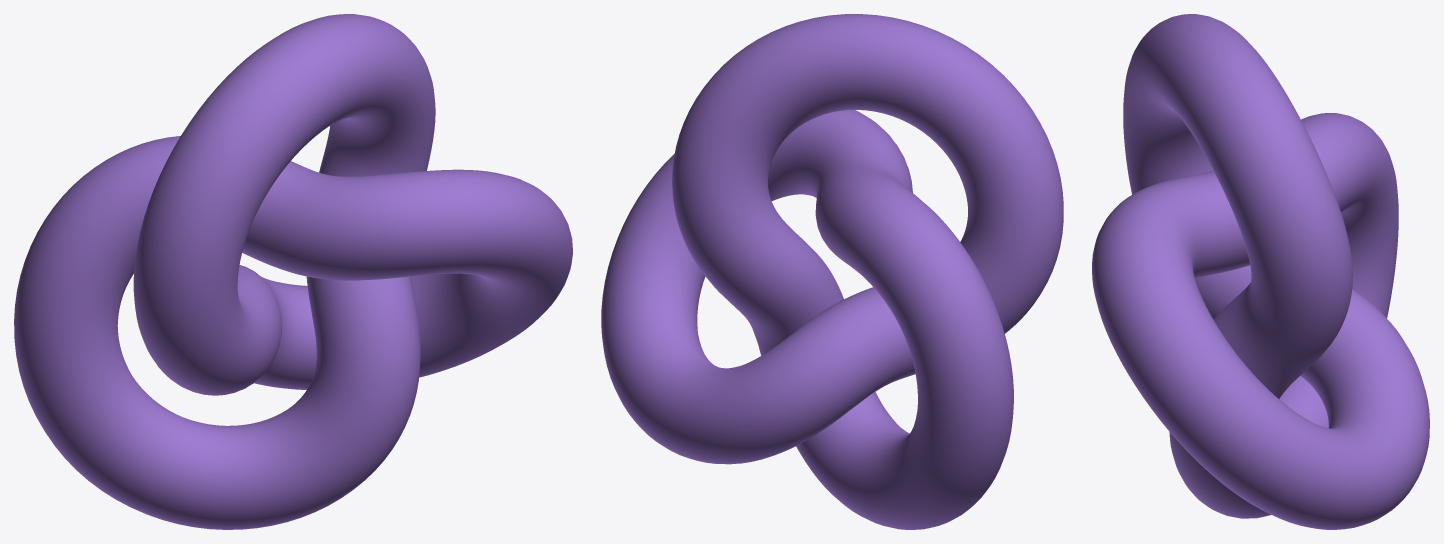
Rendered from orbit.glb.
3 renders of one model, left to right at view 1: azimuth 30°, elevation 25°; view 2: azimuth 150°, elevation 25°; view 3: azimuth 270°, elevation 25°, orthographic. The views are drawn at different scales.
Parts seen in each view (by area): view 1: Orbit Study; view 2: Orbit Study; view 3: Orbit Study.
Boxes of the visible parts, x1=… form: Orbit Study: x1=14, y1=14, x2=572, y2=529; Orbit Study: x1=601, y1=14, x2=1063, y2=529; Orbit Study: x1=1092, y1=14, x2=1429, y2=529.
Bounding box in the file's own units: 3.39 × 3.43 × 2.13.
